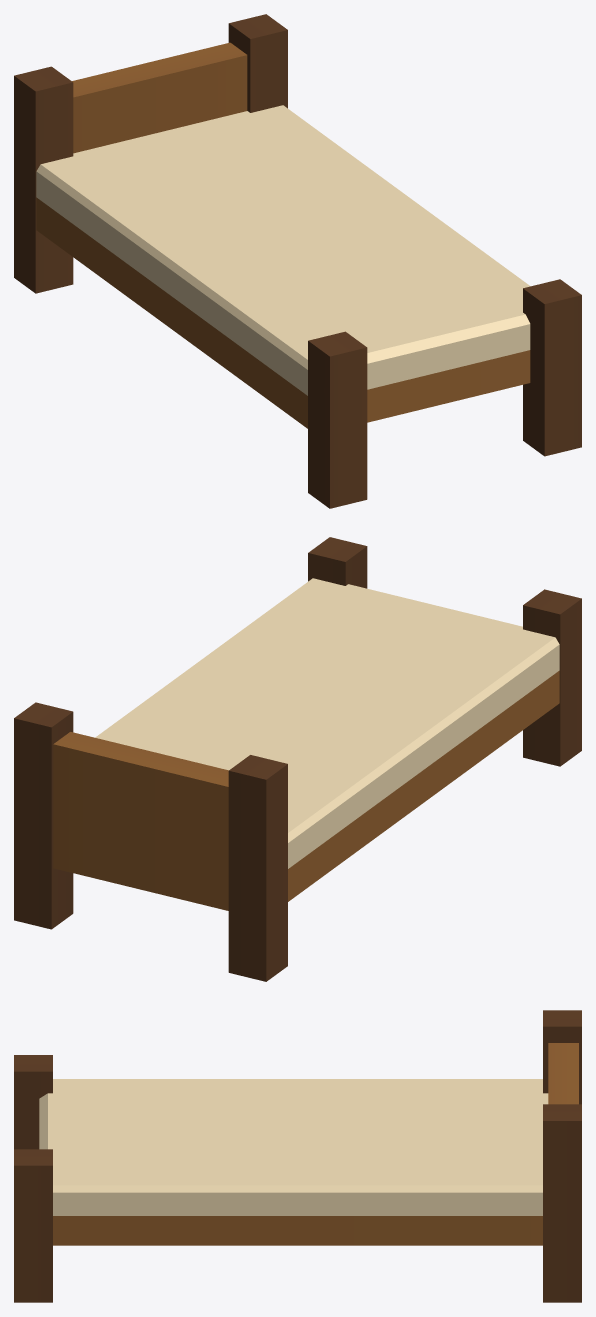
File: Bed_Single_01.fbx
The picture shows the model from 3 angles, top to bottom: view 1: azimuth 30°, elevation 25°; view 2: azimuth 150°, elevation 25°; view 3: azimuth 270°, elevation 25°; orthographic projection. The views are drawn at different scales.
Visible parts, largest first — view 1: Bed_Single_01, Bed_Single_01.003, Bed_Single_01.002, Bed_Single_01.001; view 2: Bed_Single_01, Bed_Single_01.001, Bed_Single_01.002, Bed_Single_01.003; view 3: Bed_Single_01, Bed_Single_01.002, Bed_Single_01.003, Bed_Single_01.001.
Boxes of the visible parts, left/top/right/bottom form: Bed_Single_01: left=36, top=105, right=530, bottom=428; Bed_Single_01.003: left=308, top=279, right=581, bottom=508; Bed_Single_01.002: left=14, top=14, right=287, bottom=293; Bed_Single_01.001: left=72, top=42, right=247, bottom=153; Bed_Single_01: left=95, top=578, right=559, bottom=901; Bed_Single_01.001: left=53, top=732, right=228, bottom=910; Bed_Single_01.002: left=14, top=702, right=287, bottom=981; Bed_Single_01.003: left=308, top=537, right=581, bottom=766; Bed_Single_01: left=39, top=1079, right=548, bottom=1245; Bed_Single_01.002: left=543, top=1010, right=581, bottom=1302; Bed_Single_01.003: left=14, top=1055, right=52, bottom=1302; Bed_Single_01.001: left=548, top=1043, right=578, bottom=1104.
Size of the model in its own units: 1.01 by 0.7698 by 2.18.
